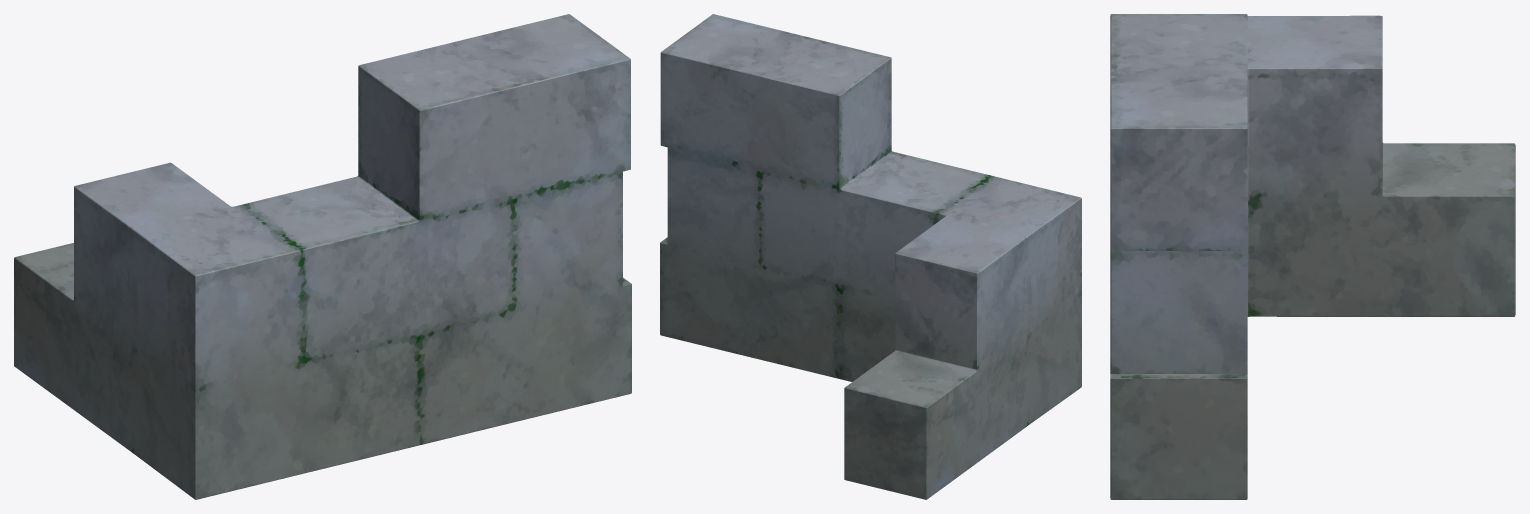
File: Wall_Turn_Damage_low.fbx
3 views of the same model, side by side, from view 1: azimuth 30°, elevation 25°; view 2: azimuth 150°, elevation 25°; view 3: azimuth 270°, elevation 25° (orthographic). The views are drawn at different scales.
Parts seen in each view (by area): view 1: Wall_Turn_Damage_low; view 2: Wall_Turn_Damage_low; view 3: Wall_Turn_Damage_low.
Part boxes in pixels (x1=…): Wall_Turn_Damage_low: x1=14, y1=14, x2=631, y2=499; Wall_Turn_Damage_low: x1=660, y1=14, x2=1081, y2=499; Wall_Turn_Damage_low: x1=1110, y1=14, x2=1515, y2=499.
Bounding box in the file's own units: 2.16 × 1.58 × 1.56.
